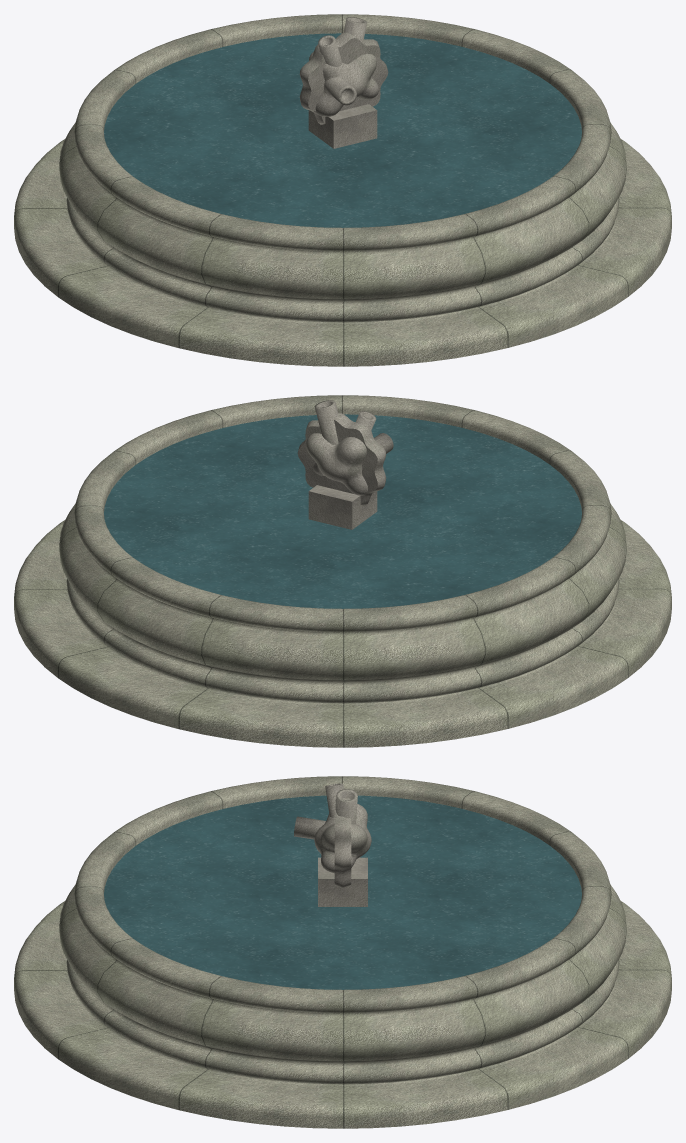
File: fuente_zocalo.obj
3 views of the same model, one above another, from view 1: azimuth 30°, elevation 25°; view 2: azimuth 150°, elevation 25°; view 3: azimuth 270°, elevation 25° (orthographic).
Parts seen in each view (by area): view 1: fuente_zocalo; view 2: fuente_zocalo; view 3: fuente_zocalo.
Boxes of the visible parts, x1=… form: fuente_zocalo: x1=14, y1=14, x2=671, y2=366; fuente_zocalo: x1=14, y1=395, x2=671, y2=747; fuente_zocalo: x1=14, y1=776, x2=671, y2=1128.
Size of the model in its own units: 5.5 by 1.88 by 5.5.
